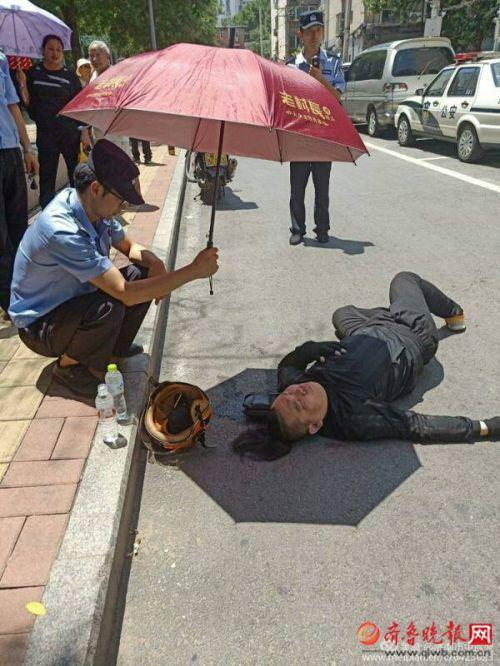bending: (10, 129, 232, 414)
down: (225, 259, 500, 476)
up: (279, 5, 358, 250), (22, 26, 94, 225)
